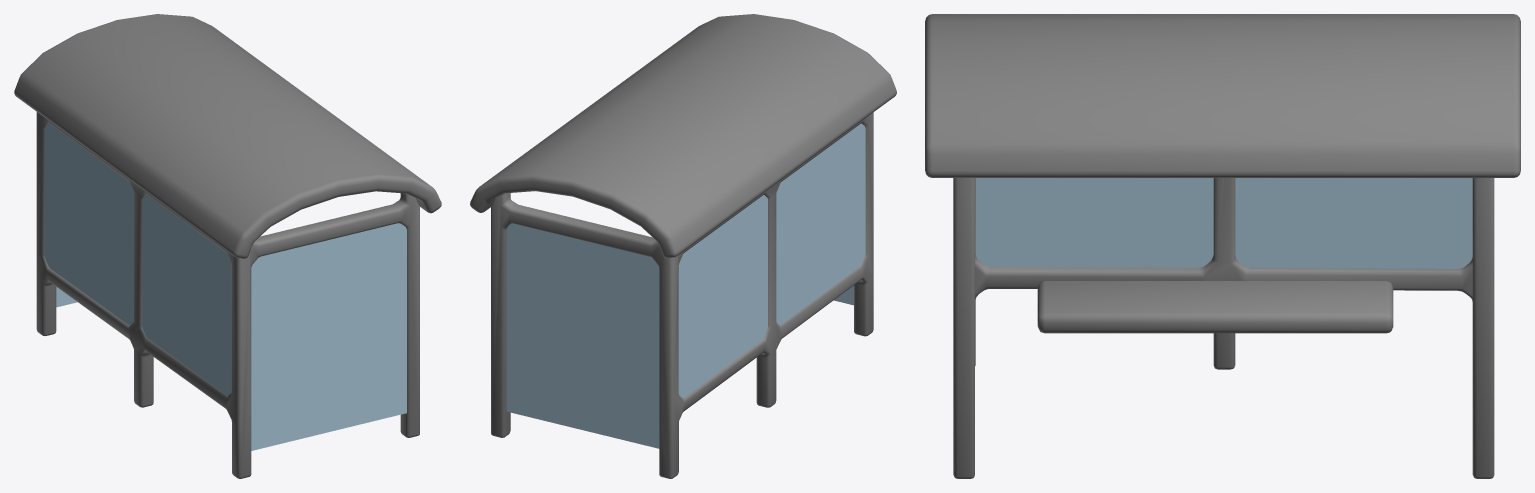
Rendered from smooth_busstop.fbx.
The picture shows the model from 3 angles, left to right: view 1: azimuth 30°, elevation 25°; view 2: azimuth 150°, elevation 25°; view 3: azimuth 270°, elevation 25°; orthographic projection. The views are drawn at different scales.
Visible parts, largest first — view 1: busstop, busstop.003, busstop.001; view 2: busstop, busstop.003, busstop.001; view 3: busstop.003, busstop, busstop.001, busstop.002.
Boxes of the visible parts, bbox=[...] form: busstop: bbox=[44, 123, 406, 450]; busstop.003: bbox=[14, 14, 441, 258]; busstop.001: bbox=[36, 112, 419, 478]; busstop: bbox=[506, 123, 865, 448]; busstop.003: bbox=[470, 14, 896, 258]; busstop.001: bbox=[491, 112, 873, 478]; busstop.003: bbox=[925, 14, 1520, 177]; busstop: bbox=[975, 178, 1472, 268]; busstop.001: bbox=[953, 178, 1494, 478]; busstop.002: bbox=[1037, 281, 1393, 333].
Bounding box in the file's own units: 438 × 573 × 818.
